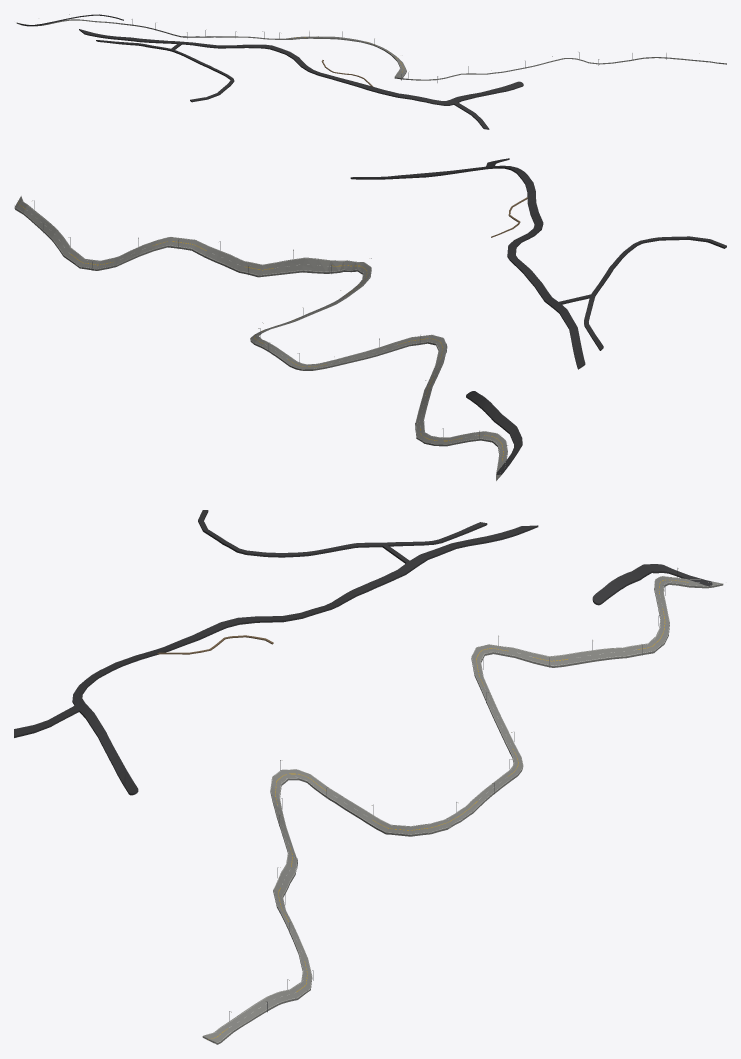
Rendered from 16-54731-29740.efd98699.glb.
The picture shows the model from 3 angles, top to bottom: view 1: azimuth 30°, elevation 25°; view 2: azimuth 150°, elevation 25°; view 3: azimuth 270°, elevation 25°; orthographic projection. The views are drawn at different scales.
Size of the model in its own units: 590 by 107 by 456.
